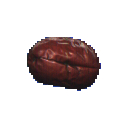ng: (20, 32, 108, 96)
